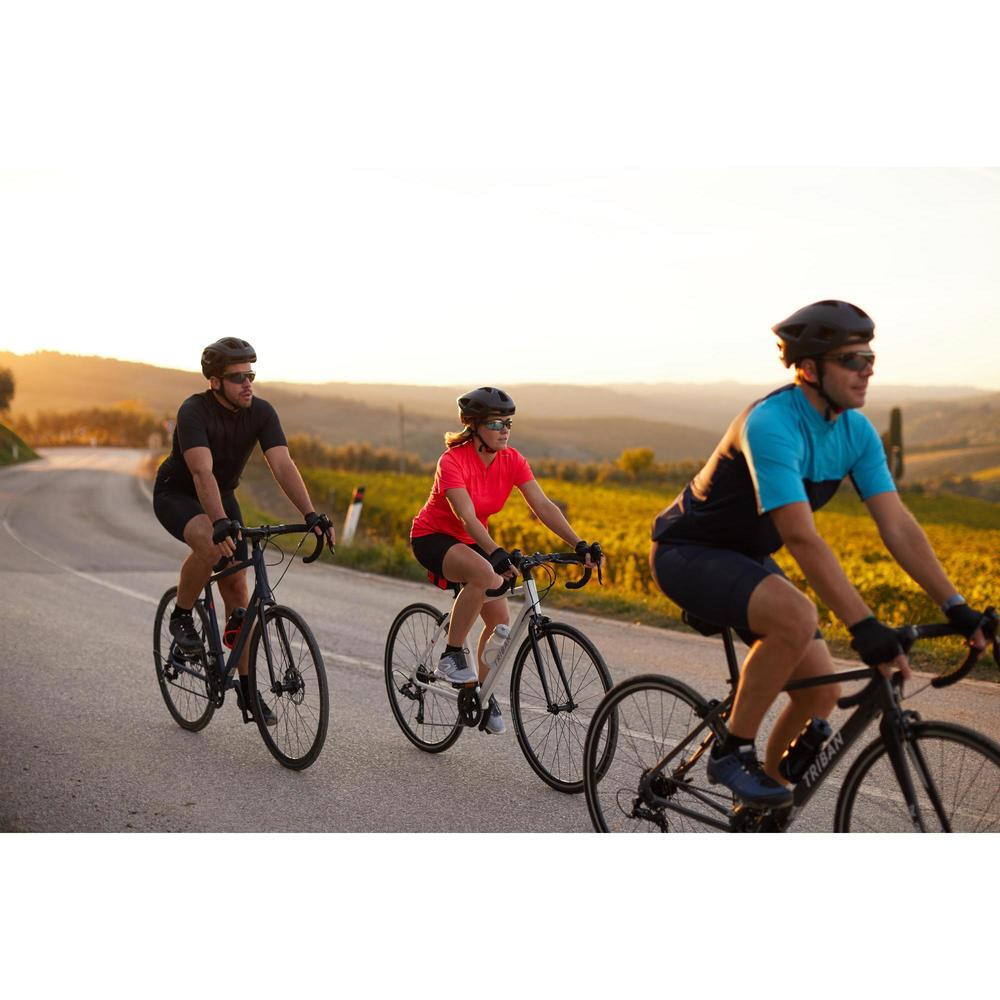RoadBike: (586, 598, 992, 843), (376, 558, 607, 783), (156, 503, 341, 770)
